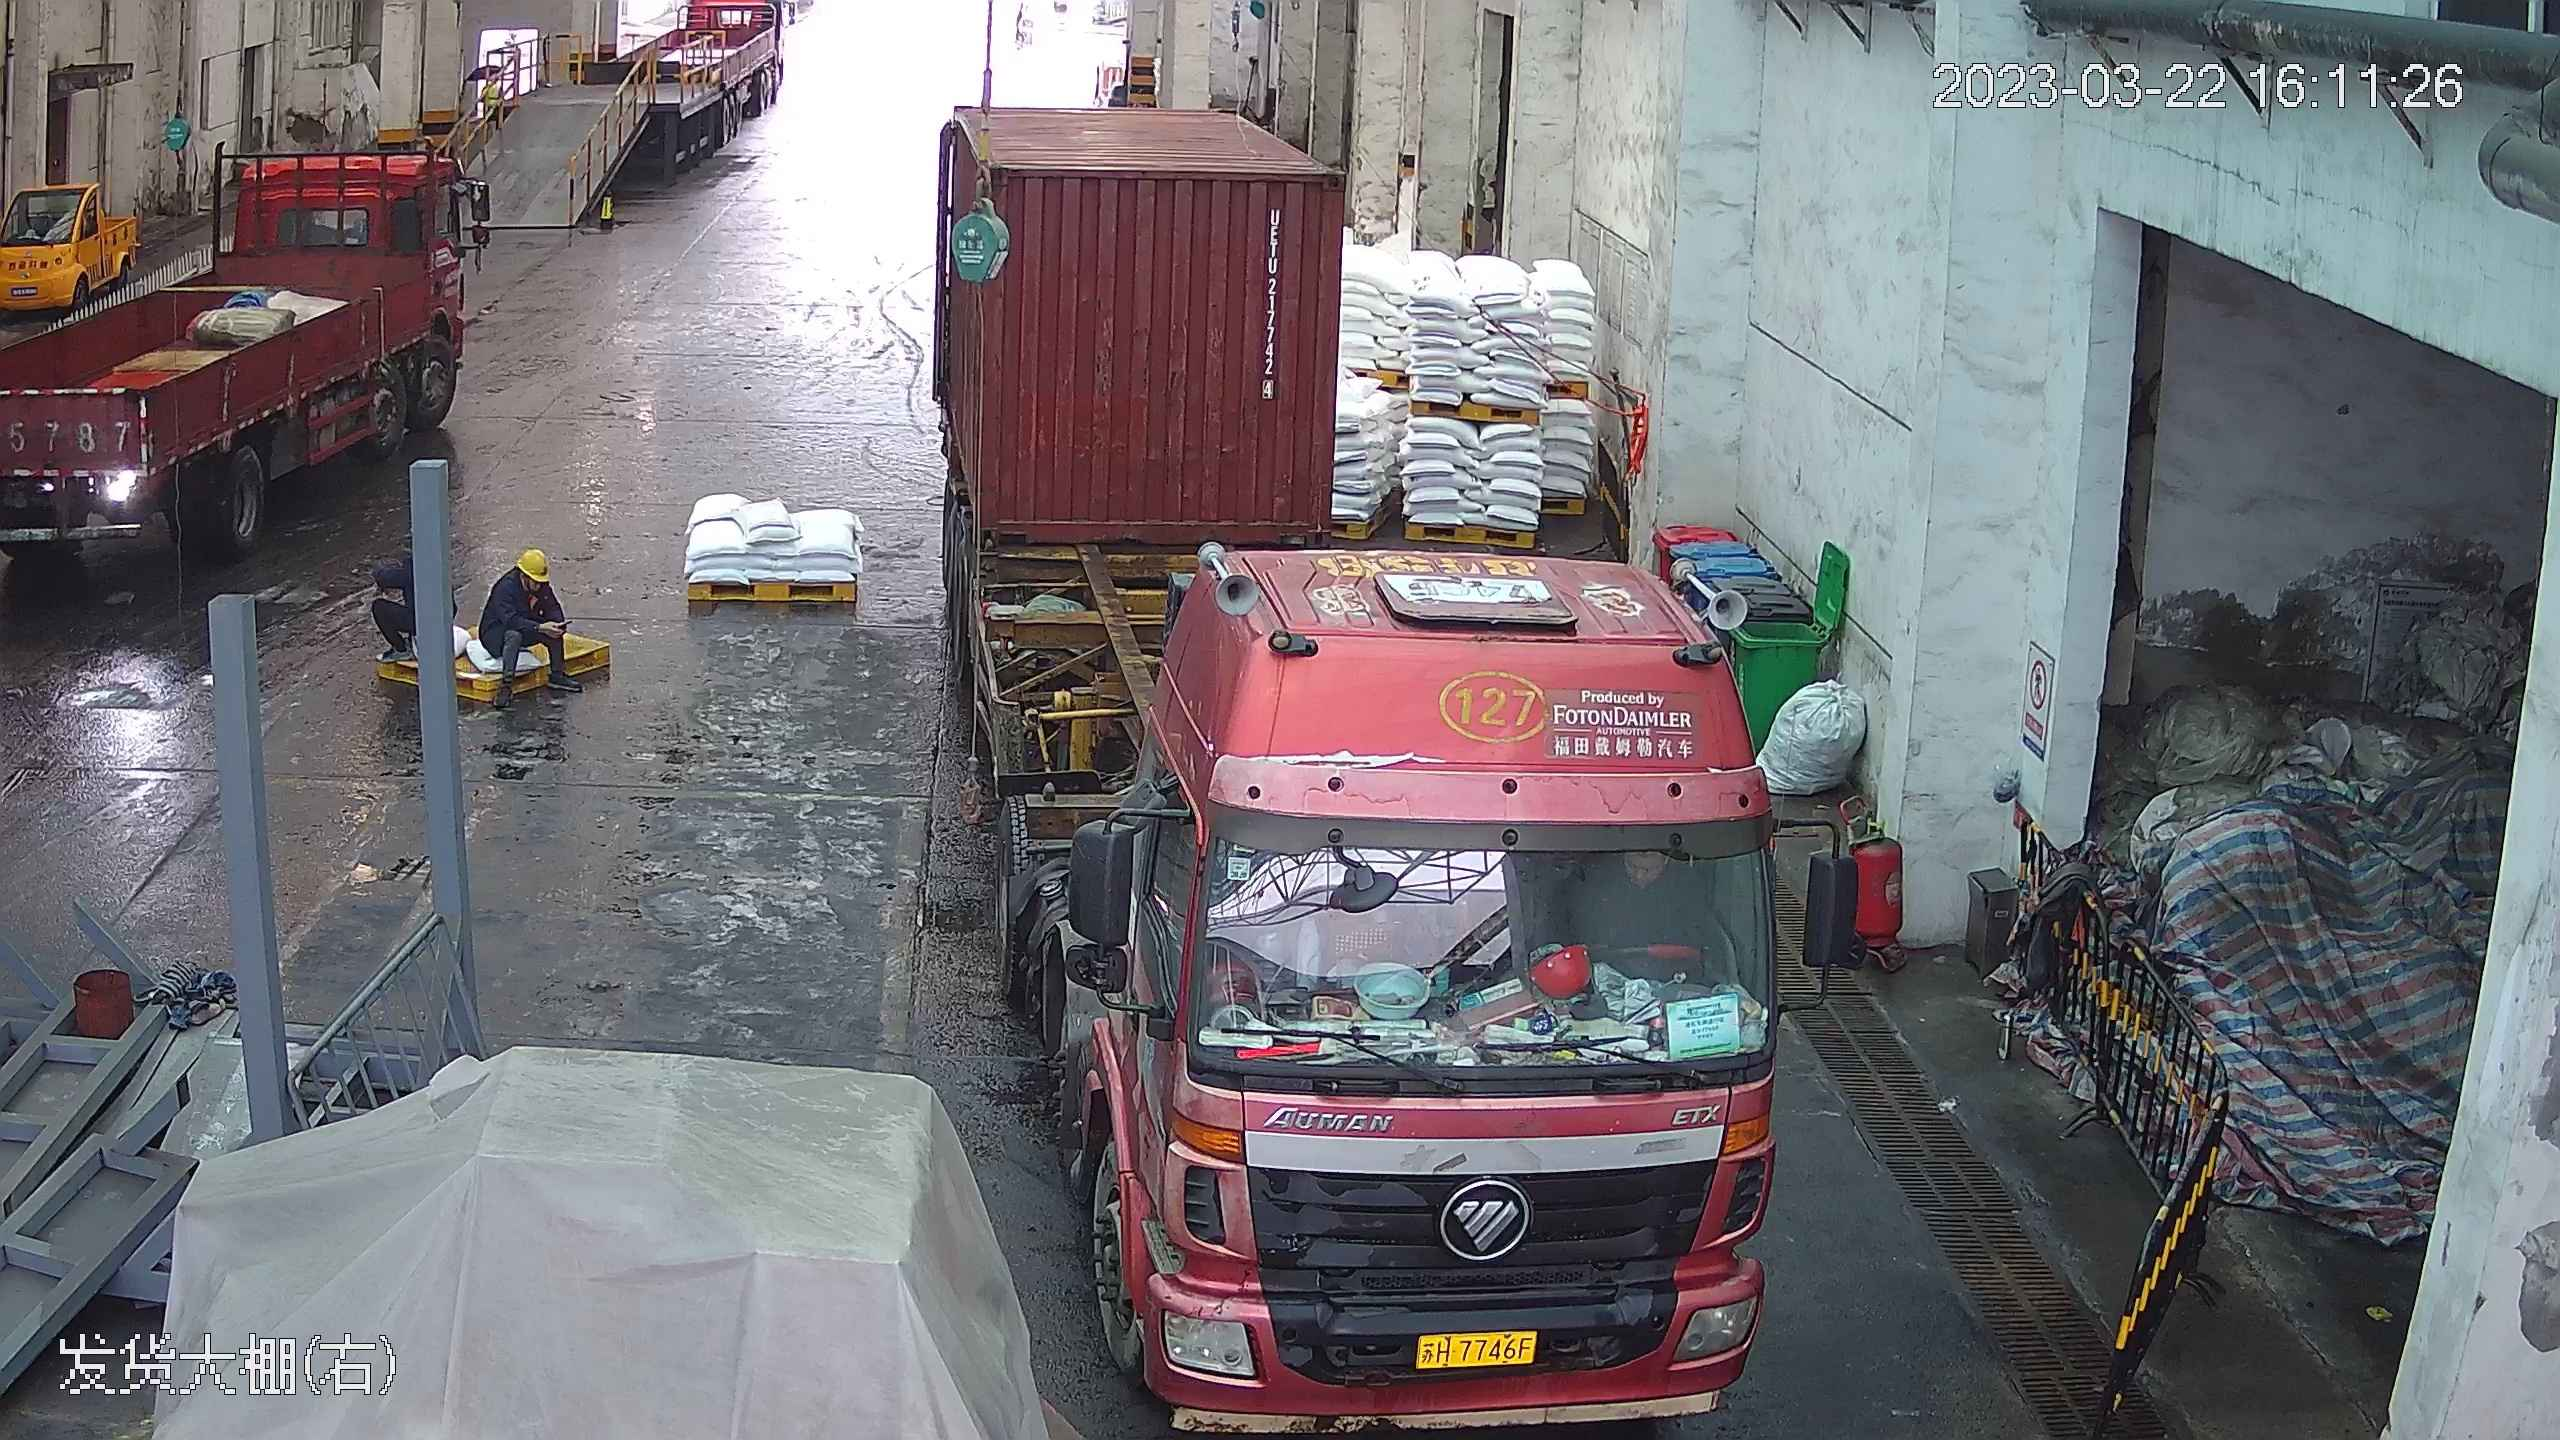head: (493, 544, 555, 604)
helmet: (515, 543, 550, 576)
people: (480, 541, 566, 699)
truck: (922, 11, 1797, 1433), (0, 42, 472, 586)
